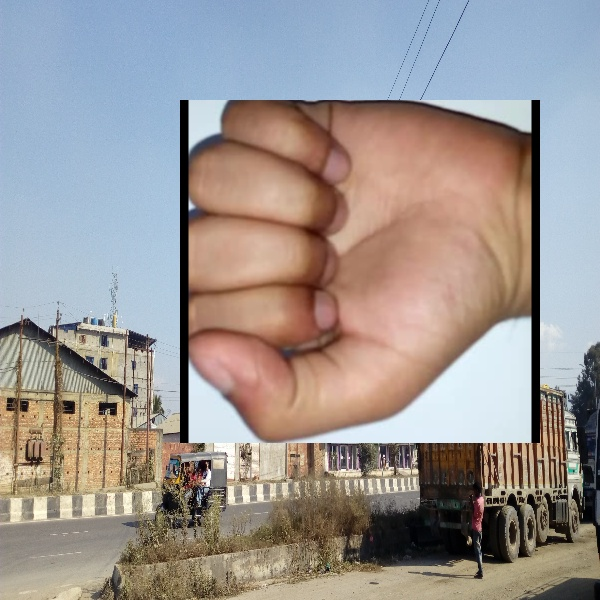A: (180, 100, 540, 443)
